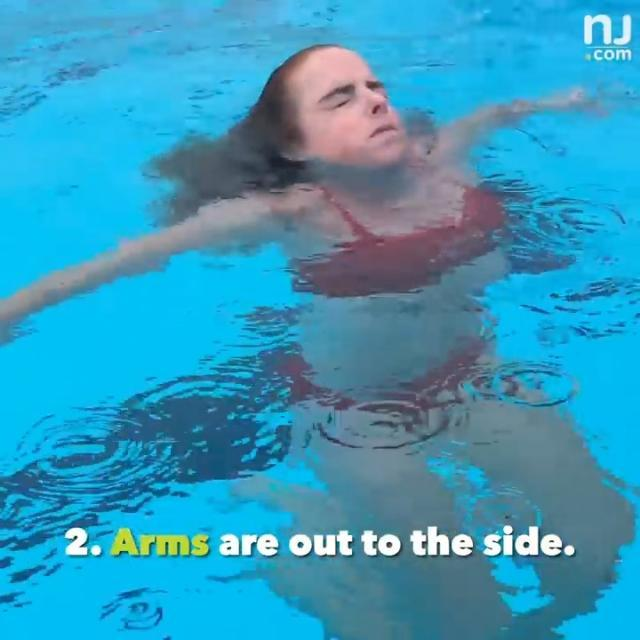Drowning: (110, 33, 565, 251)
